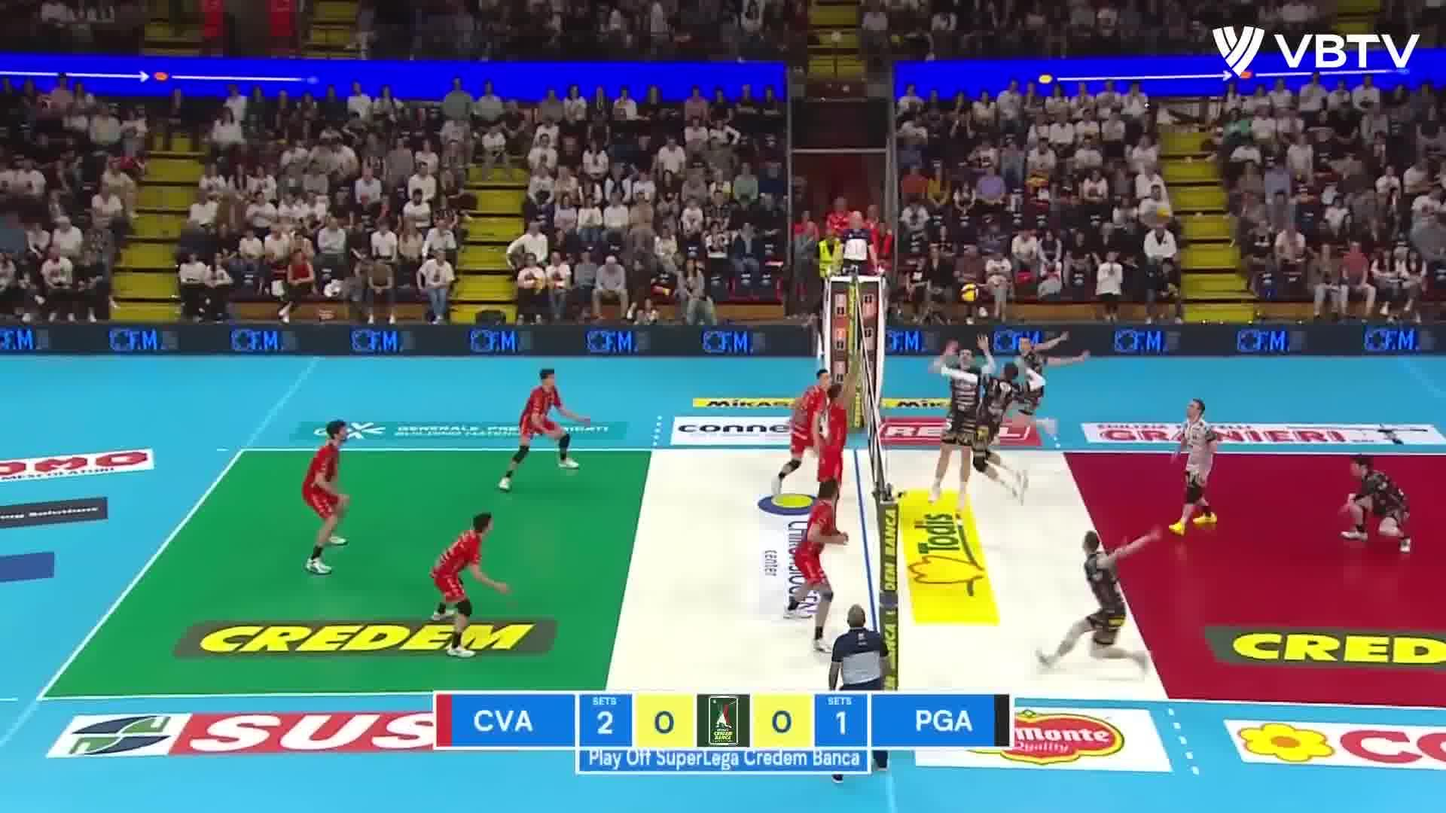balls: (957, 281, 984, 306)
